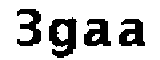3: (15, 6, 45, 49)
a: (83, 16, 113, 54), (117, 19, 147, 50)
g: (47, 16, 80, 60)
